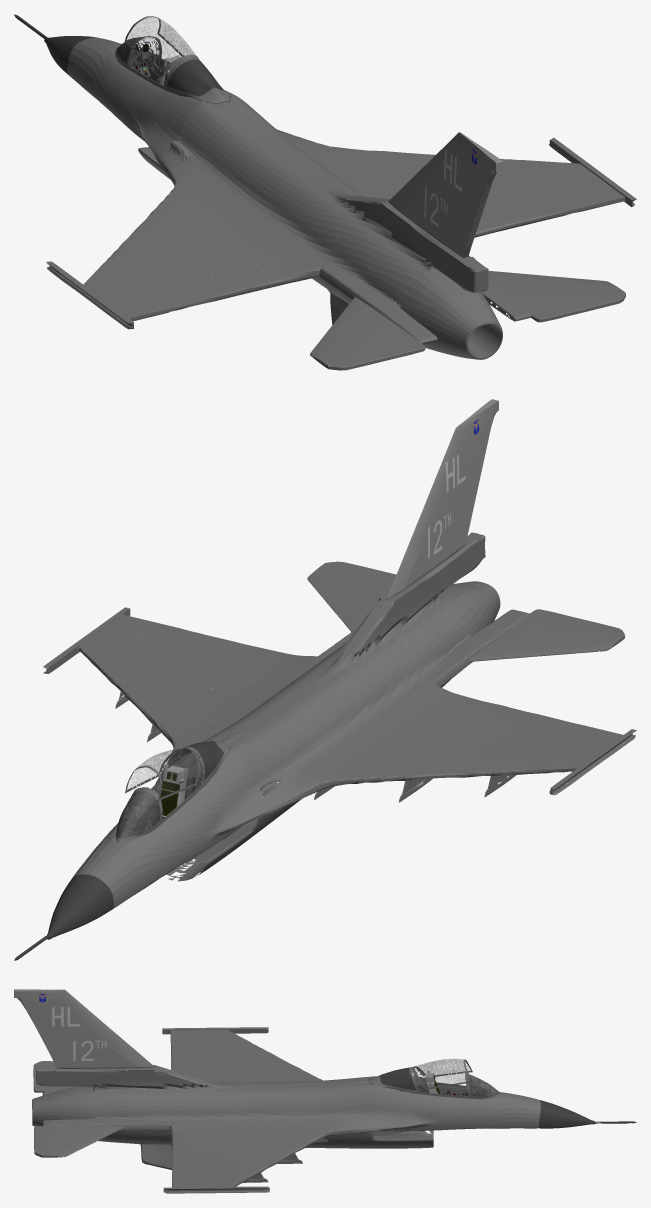
3 renders of one model, top to bottom at view 1: azimuth 30°, elevation 25°; view 2: azimuth 150°, elevation 25°; view 3: azimuth 270°, elevation 25°, orthographic. The views are drawn at different scales.
Visible parts, largest first — view 1: A_f16_v2; view 2: A_f16_v2; view 3: A_f16_v2.
Boxes of the visible parts, <box> form: A_f16_v2: <box>14,14,636,370</box>; A_f16_v2: <box>14,399,636,960</box>; A_f16_v2: <box>14,989,636,1193</box>.
Bounding box in the file's own units: 25.72 × 12.92 × 42.17.
Materials: 4 (4 with a texture image).
